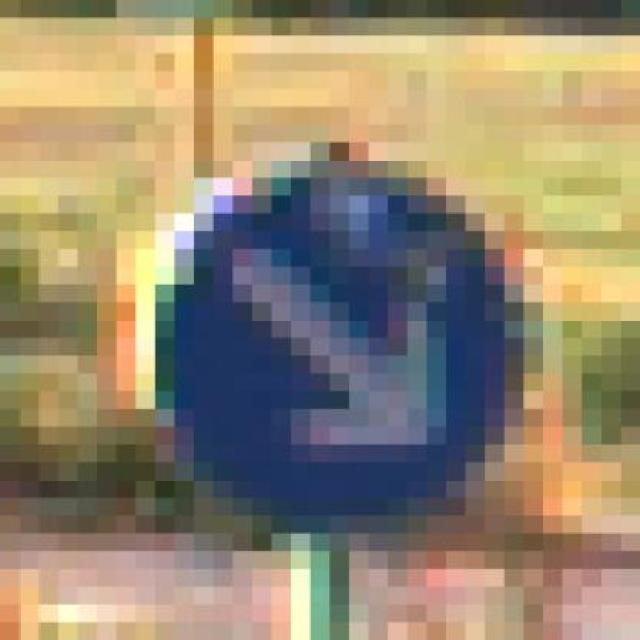Keep-Right: (116, 142, 544, 533)
